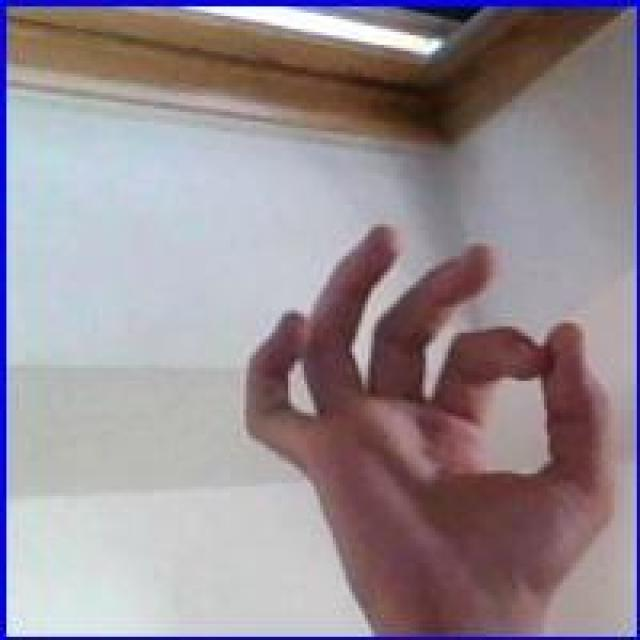F: (245, 218, 616, 630)
